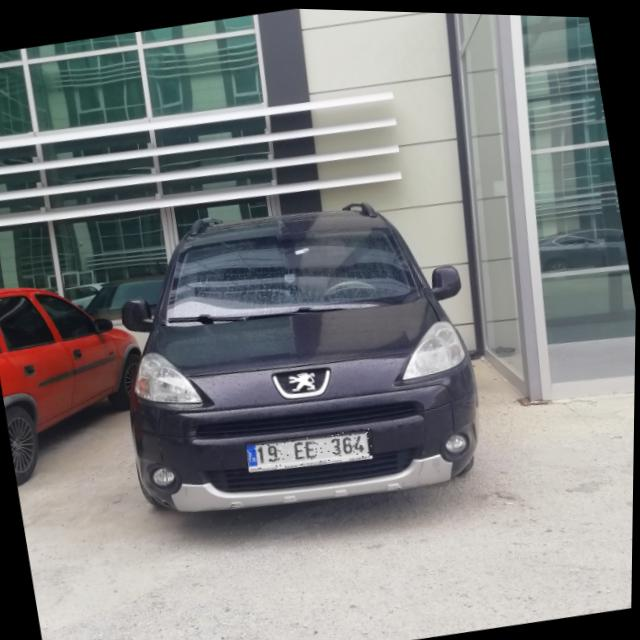license_plate: (248, 422, 375, 474)
